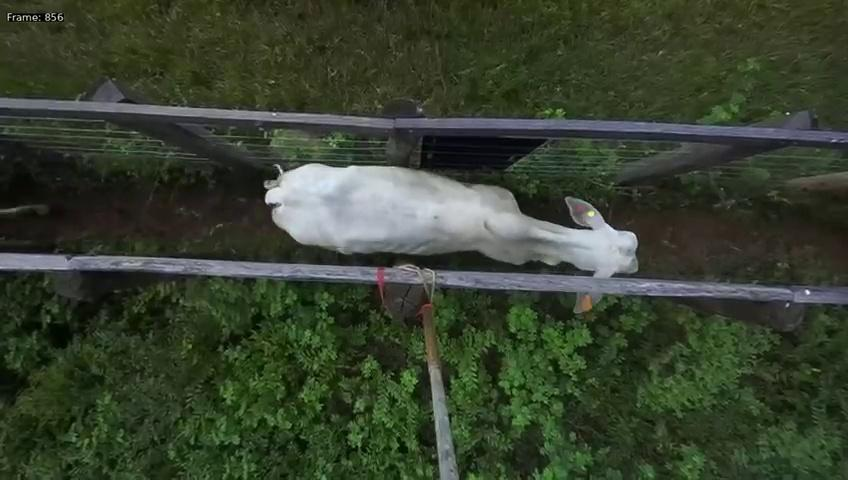cattle: (260, 136, 640, 277)
